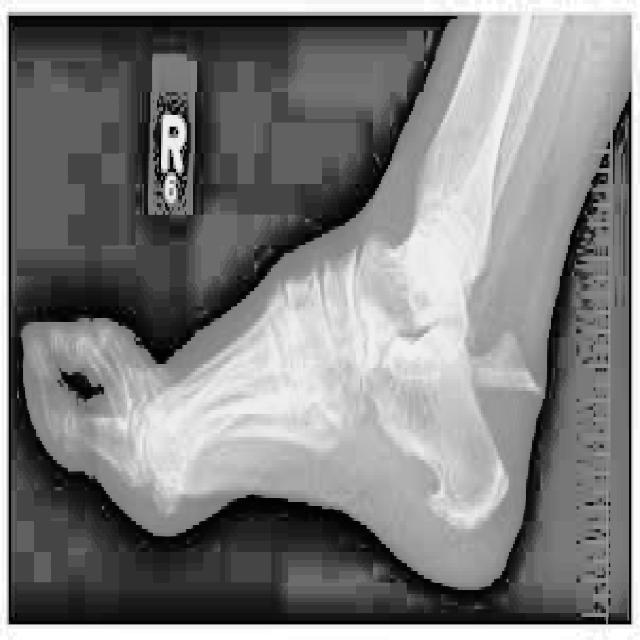Avlusion Fracture: (467, 322, 544, 404)
